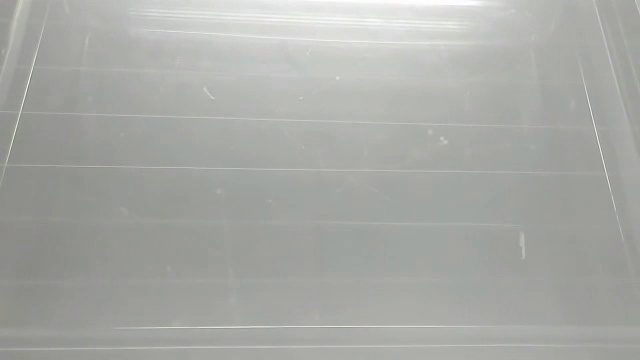alpha: (517, 229, 529, 262)
